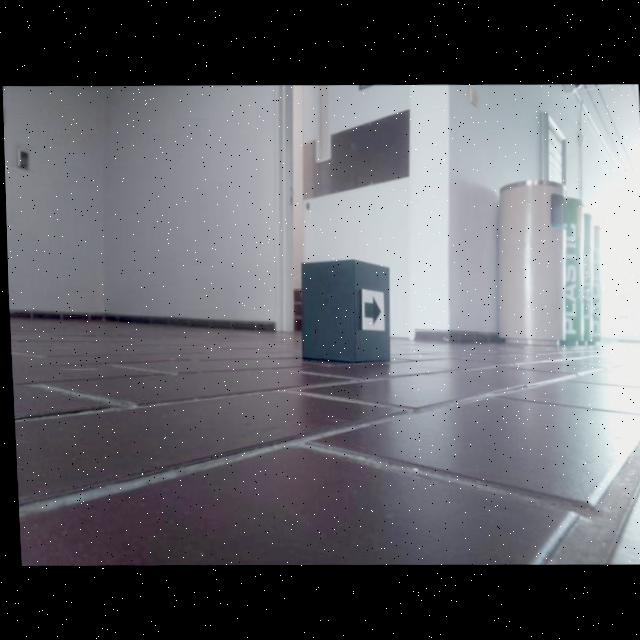RIGHT: (361, 293, 380, 325)
